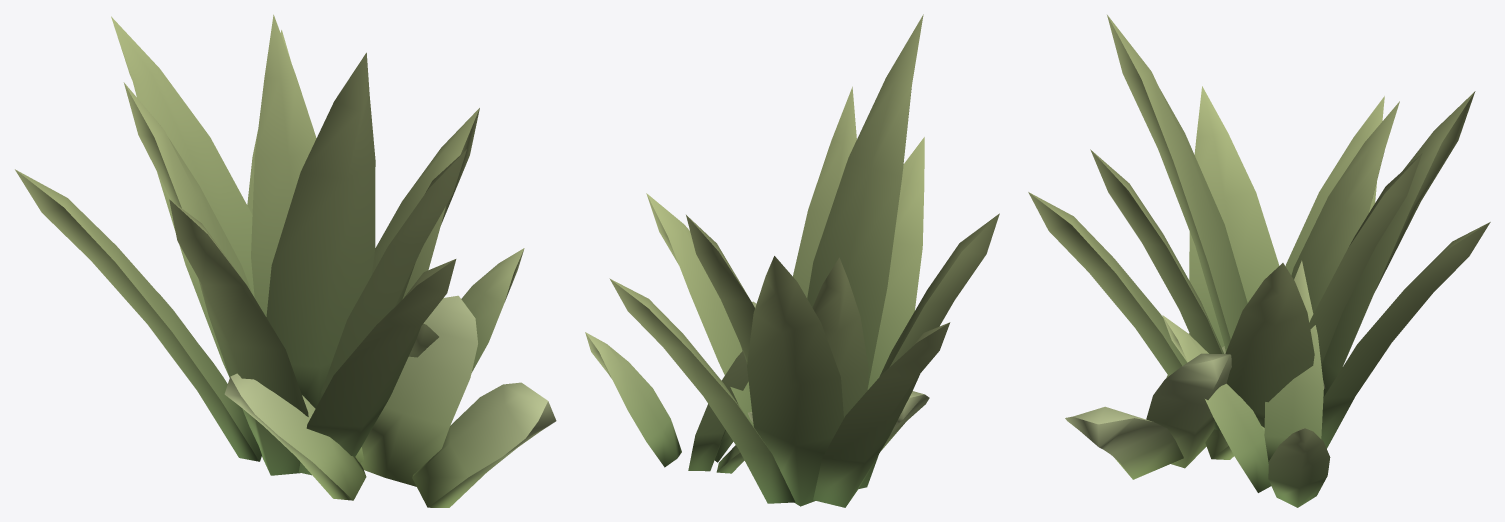
The model's file is grass_mixed_c.glb.
3 renders of one model, left to right at view 1: azimuth 30°, elevation 25°; view 2: azimuth 150°, elevation 25°; view 3: azimuth 270°, elevation 25°, orthographic. The views are drawn at different scales.
Parts seen in each view (by area): view 1: Grass_Mixed_C.001; view 2: Grass_Mixed_C.001; view 3: Grass_Mixed_C.001.
Boxes of the visible parts, x1,y1,x2,y2 form: Grass_Mixed_C.001: [15, 14, 556, 507]; Grass_Mixed_C.001: [585, 14, 999, 507]; Grass_Mixed_C.001: [1028, 15, 1490, 507].
Size of the model in its own units: 0.555 by 0.5612 by 0.5546.
